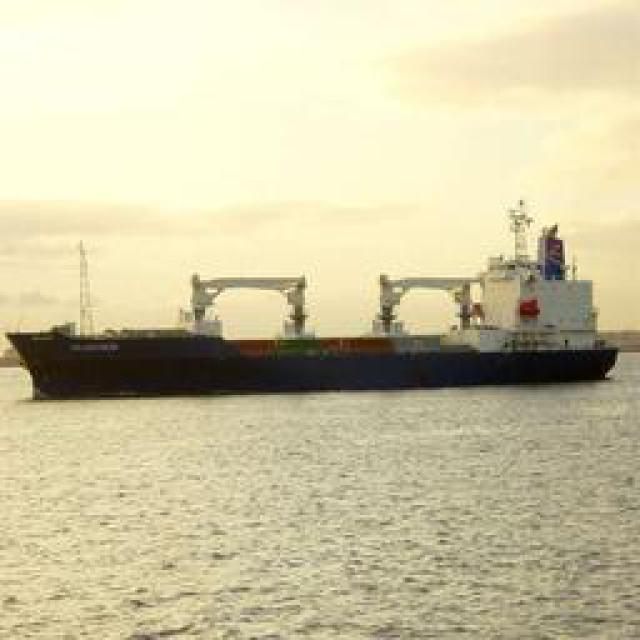Ship: (14, 232, 629, 400)
